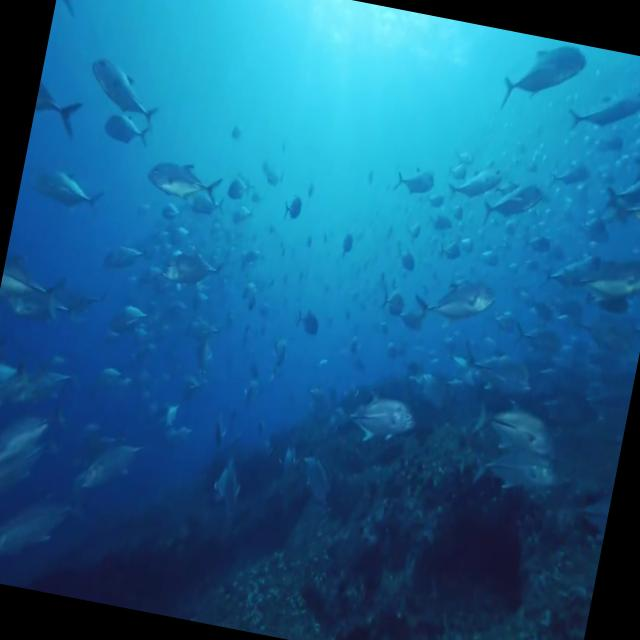fish: (78, 51, 168, 136), (500, 37, 590, 117), (408, 268, 500, 341), (142, 155, 223, 209)
